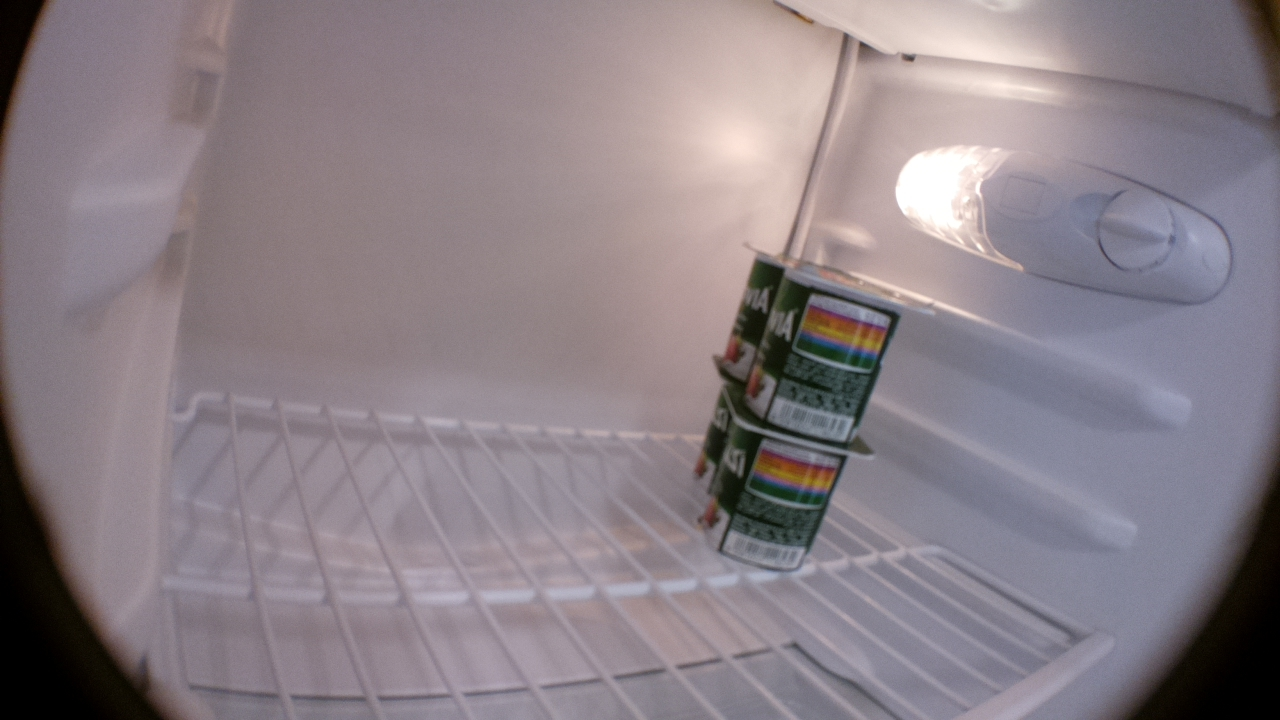yoghurt: (740, 262, 937, 447), (695, 395, 877, 572), (714, 241, 785, 378)
